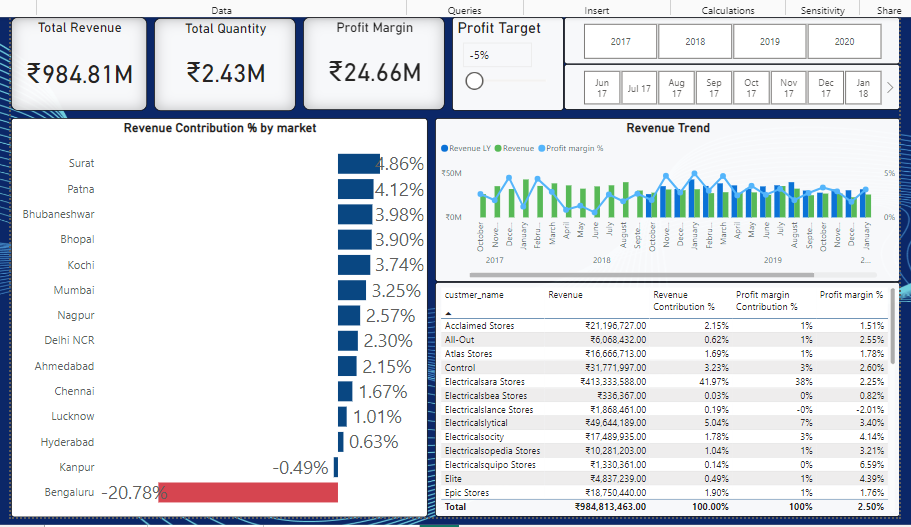

What the dashboard file says about the page in this screenshot:
{"tool":"powerbi","page":{"name":"Performance Insights","canvas":[1280,720],"ordinal":2},"visuals":[{"type":"slicer","fields":{"Values":["sales date.date.Variation.Date Hierarchy.Year"]},"box":[796.3,0,483.8,67.7],"z":0},{"type":"lineClusteredColumnComboChart","title":"Revenue Trend","fields":{"Category":["sales date.date.Variation.Date Hierarchy.Year","sales date.date.Variation.Date Hierarchy.Month"],"Y":["measure.Revenue LY","measure.Revenue"],"Y2":["measure.Profit margin %"]},"box":[610.6,145.4,669.6,236.2],"z":1000},{"type":"barChart","title":"Revenue Contribution % by market","fields":{"Category":["sales markets.markets_name"],"Y":["measure.Profit margin %"]},"box":[0,145.4,600.5,574.6],"z":2000},{"type":"tableEx","fields":{"Values":["sales customers.custmer_name","measure.Revenue","measure.Revenue Contribution %","measure.Profit margin Contribution %","measure.Profit margin %"]},"box":[610.6,381.6,669.6,338.4],"z":3000},{"type":"slicer","title":"Profit Target","fields":{"Values":["Profit Target.Profit Target"]},"box":[635,0,161.3,135.4],"z":4000},{"type":"card","title":"Total Revenue","fields":{"Values":["measure.Revenue"]},"box":[0,0,195.8,135.4],"z":5000},{"type":"card","title":"Total Quantity","fields":{"Values":["measure.Total QTY"]},"box":[205.9,1.4,204.5,133.9],"z":6000},{"type":"card","title":"Profit Margin","fields":{"Values":["measure.Total Profit margin"]},"box":[420.5,0,204.5,133.9],"z":7000},{"type":"slicer","fields":{"Values":["sales date.cy_date"]},"box":[796.3,67.7,483.8,66.2],"z":8000}]}

Visuals, with their boxes in screenshot pixels (x1, y1, x2, y2):
slicer - sales date.date.Variation.Date Hierarchy.Year: crop(559, 14, 898, 62)
"Revenue Trend" lineClusteredColumnComboChart: crop(429, 116, 899, 282)
"Revenue Contribution % by market" barChart: crop(0, 116, 421, 520)
tableEx - sales customers.custmer_name x measure.Revenue: crop(429, 282, 899, 520)
"Profit Target" slicer: crop(446, 14, 559, 109)
"Total Revenue" card: crop(0, 14, 137, 109)
"Total Quantity" card: crop(145, 15, 288, 109)
"Profit Margin" card: crop(295, 14, 439, 108)
slicer - sales date.cy_date: crop(559, 62, 898, 108)
